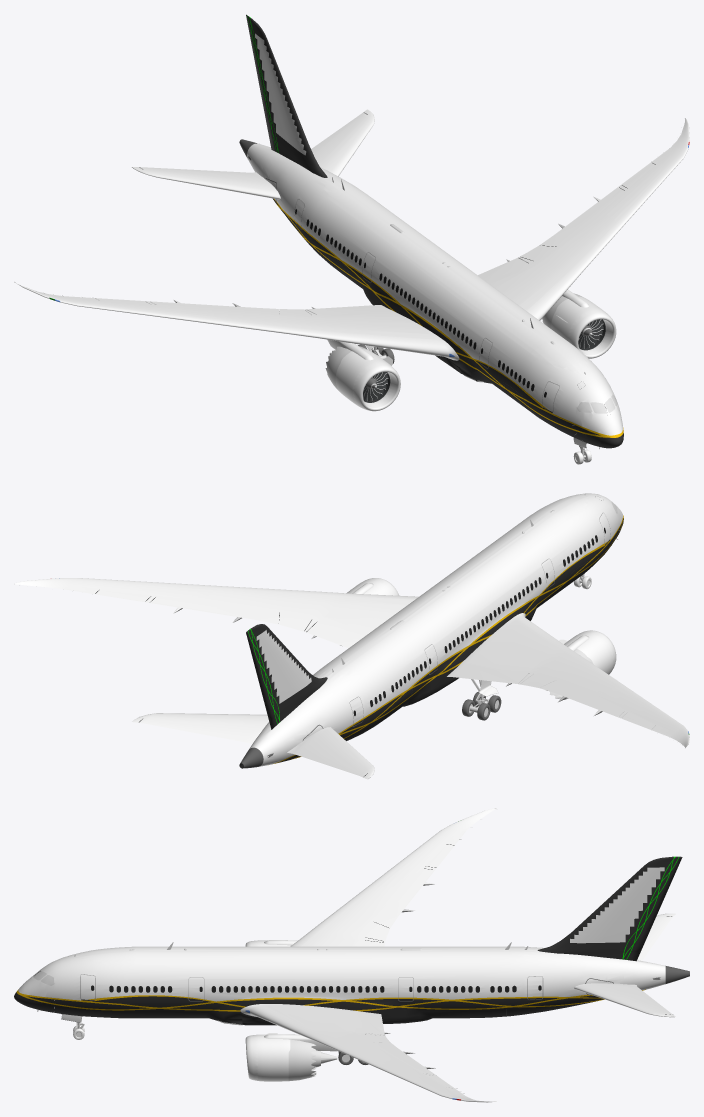
Rendered from Boeing 787.fbx.
The picture shows the model from 3 angles, top to bottom: view 1: azimuth 30°, elevation 25°; view 2: azimuth 150°, elevation 25°; view 3: azimuth 270°, elevation 25°; orthographic projection. The views are drawn at different scales.
Visible parts, largest first — view 1: Group_010, Компонент#49_001, Компонент#49_003, Компонент#84_001, Компонент#83_002, Компонент#83_001, Компонент#62_001, Компонент#86_001, Group_007, Group_015, Group_013, Group_003; view 2: Group_010, Компонент#49_001, Компонент#49_003, Компонент#84_001, Компонент#83_001, Компонент#83_002, Group_007, Group_003, Компонент#62_001; view 3: Group_010, Компонент#49_003, Компонент#49_001, Компонент#84_001, Group_007, Компонент#83_001, Компонент#86_001, Group_003, Group_012, Компонент#83_002, Group_013.
Part boxes in pixels (box(x1,y1,x2,y2)): Group_010: box(247, 143, 623, 448); Компонент#49_001: box(478, 118, 689, 320); Компонент#49_003: box(16, 283, 459, 360); Компонент#84_001: box(246, 14, 327, 177); Компонент#83_002: box(132, 167, 280, 199); Компонент#83_001: box(311, 109, 374, 176); Компонент#62_001: box(335, 349, 392, 407); Компонент#86_001: box(551, 296, 607, 351); Group_007: box(294, 199, 605, 412); Group_015: box(353, 362, 400, 411); Group_013: box(568, 310, 616, 358); Group_003: box(306, 219, 534, 391); Group_010: box(249, 493, 623, 766); Компонент#49_001: box(15, 578, 418, 648); Компонент#49_003: box(447, 613, 689, 747); Компонент#84_001: box(246, 624, 327, 729); Компонент#83_001: box(132, 713, 268, 743); Компонент#83_002: box(287, 727, 374, 779); Group_007: box(349, 512, 610, 727); Group_003: box(370, 535, 597, 707); Компонент#62_001: box(564, 632, 613, 674); Group_010: box(24, 946, 665, 1025); Компонент#49_003: box(290, 808, 495, 946); Компонент#49_001: box(240, 1004, 492, 1102); Компонент#84_001: box(537, 856, 682, 961); Group_007: box(80, 974, 543, 1001); Компонент#83_001: box(574, 983, 675, 1017); Компонент#86_001: box(256, 1034, 290, 1081); Group_003: box(109, 985, 516, 992); Group_012: box(288, 1039, 316, 1081); Компонент#83_002: box(637, 913, 675, 960); Group_013: box(245, 1035, 257, 1080).
Size of the model in its own units: 2242 by 645 by 2183.
